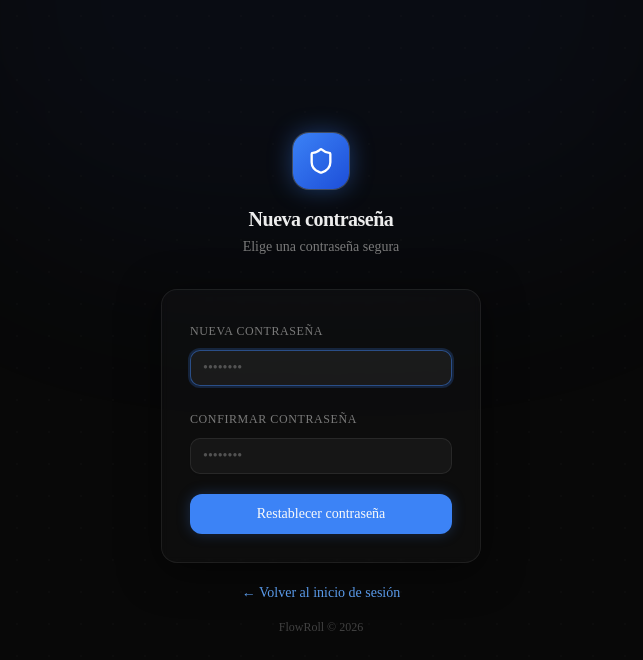
Test: PasswordResetConfirmPage › shows validation error when passwords do not match
In the password field labelled "Nueva contraseña": (321, 368) x1=190 y1=350 x2=452 y2=386, type "password123"
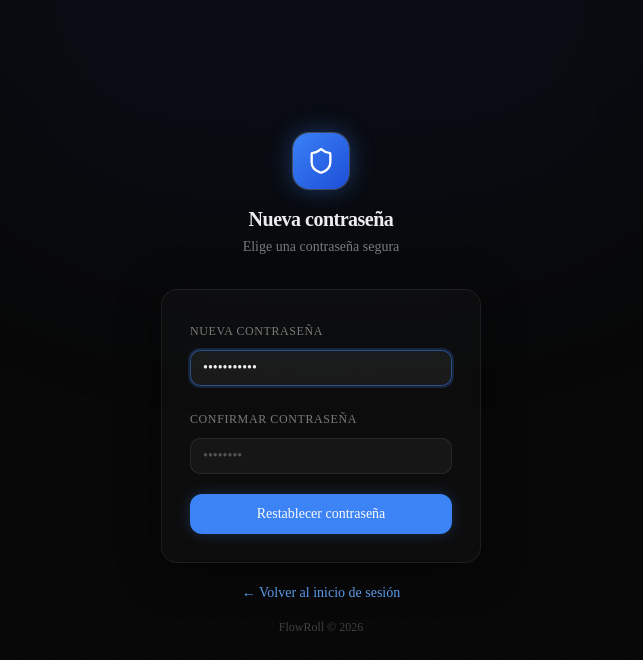
In the password field labelled "Confirmar contraseña": (321, 456) x1=190 y1=438 x2=452 y2=474, type "different123"
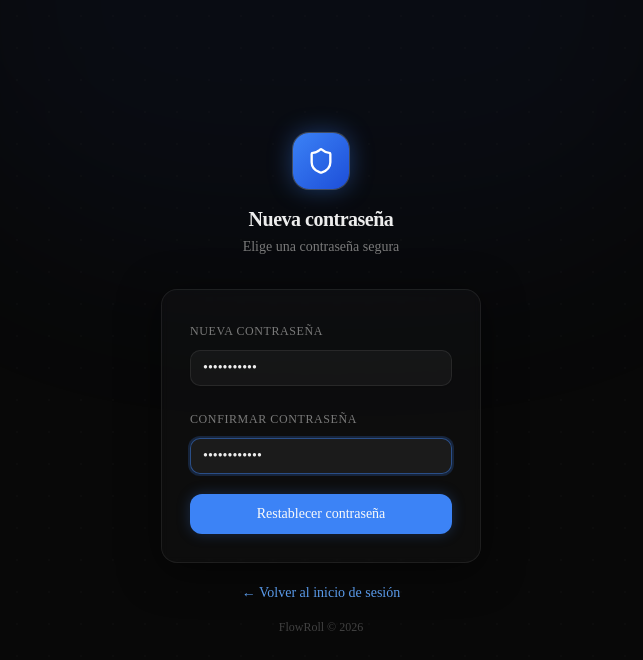
Click the button "Restablecer contraseña": (321, 514) x1=190 y1=494 x2=452 y2=534
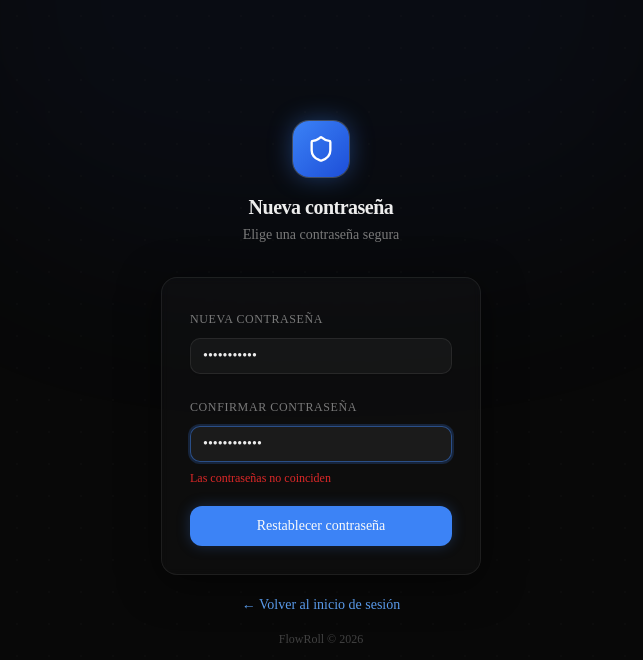
Check: the text "Las contraseñas no coinciden" is shown, box x1=190 y1=471 x2=331 y2=485
